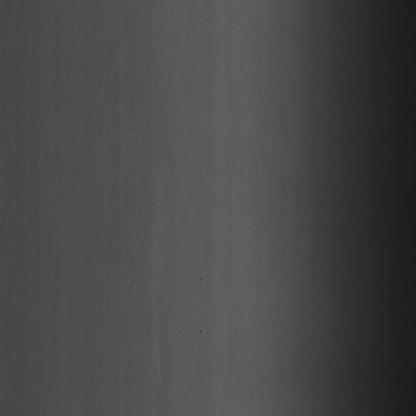inclusion: (196, 270, 206, 342)
